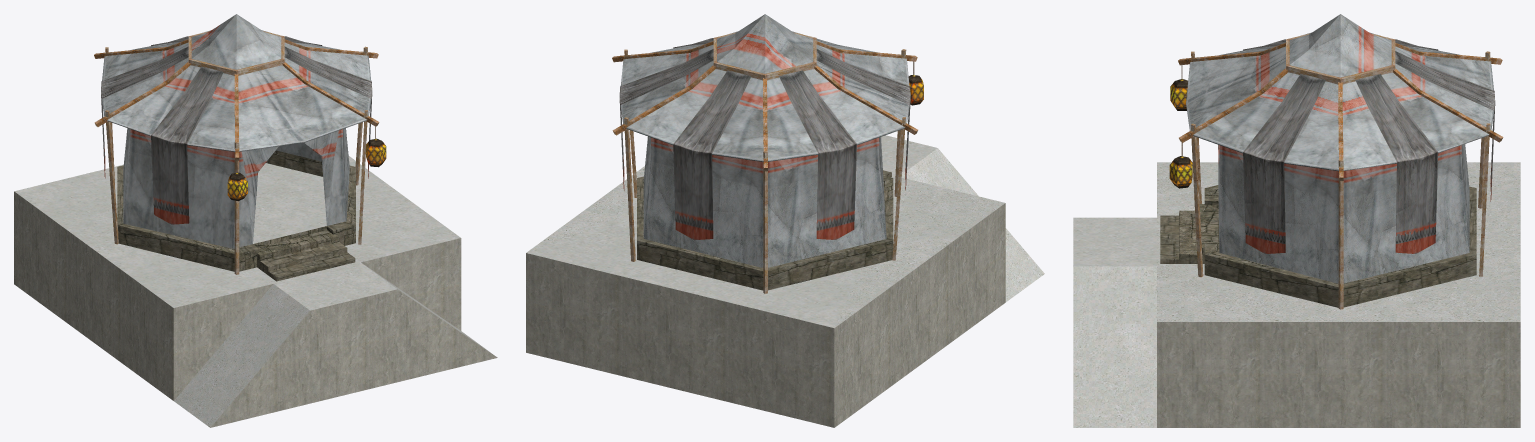
Rendered from ply_corl_merchant_tent_s01_r0_mesh_l0.fbx.
3 renders of one model, left to right at view 1: azimuth 30°, elevation 25°; view 2: azimuth 150°, elevation 25°; view 3: azimuth 270°, elevation 25°, orthographic. The views are drawn at different scales.
Parts seen in each view (by area): view 1: mesh_node; view 2: mesh_node; view 3: mesh_node.
Part boxes in pixels (<box>): mesh_node: <box>14,14,497,427</box>; mesh_node: <box>526,14,1044,427</box>; mesh_node: <box>1073,14,1520,427</box>.
Bounding box in the file's own units: 9.05 × 8.81 × 10.7.
